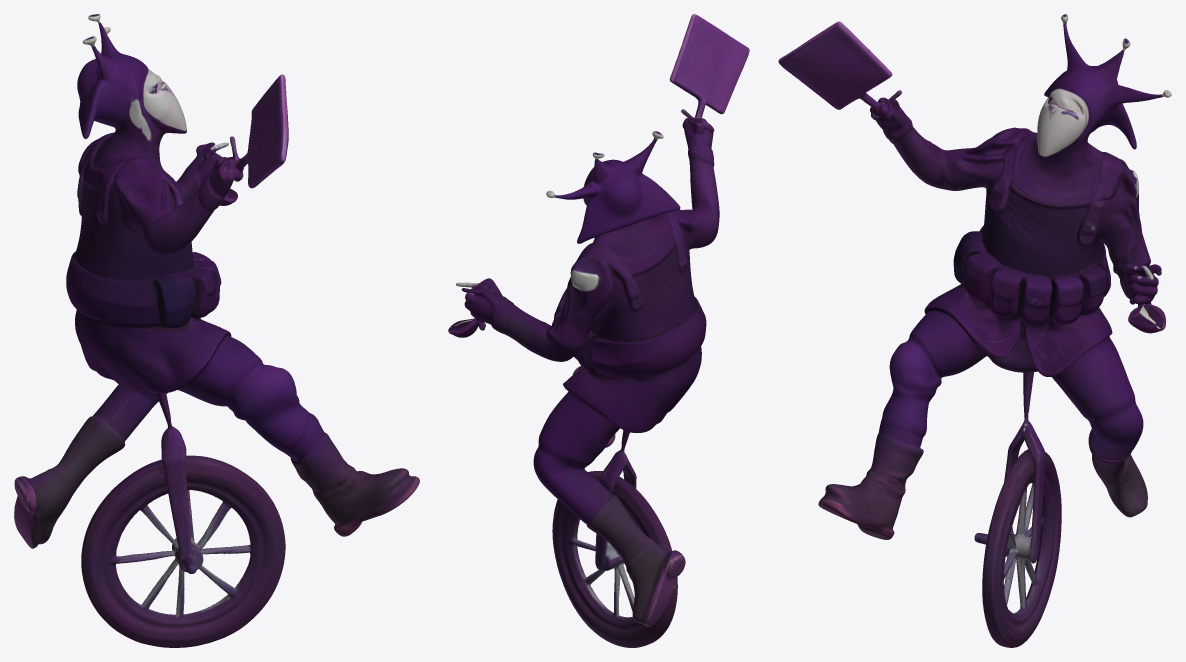
File: Purple-Bomber-figure.glb
3 renders of one model, left to right at view 1: azimuth 30°, elevation 25°; view 2: azimuth 150°, elevation 25°; view 3: azimuth 270°, elevation 25°, orthographic. The views are drawn at different scales.
Visible parts, largest first — view 1: tripo_node_2adffdd8-249d-4e71-87fc-b412d07abc3a; view 2: tripo_node_2adffdd8-249d-4e71-87fc-b412d07abc3a; view 3: tripo_node_2adffdd8-249d-4e71-87fc-b412d07abc3a.
Part boxes in pixels (<box>): tripo_node_2adffdd8-249d-4e71-87fc-b412d07abc3a: <box>14,14,419,647</box>; tripo_node_2adffdd8-249d-4e71-87fc-b412d07abc3a: <box>448,14,749,647</box>; tripo_node_2adffdd8-249d-4e71-87fc-b412d07abc3a: <box>778,14,1171,647</box>.
Bounding box in the file's own units: 0.4273 × 1 × 0.5758.
1 material, 1 textured.
